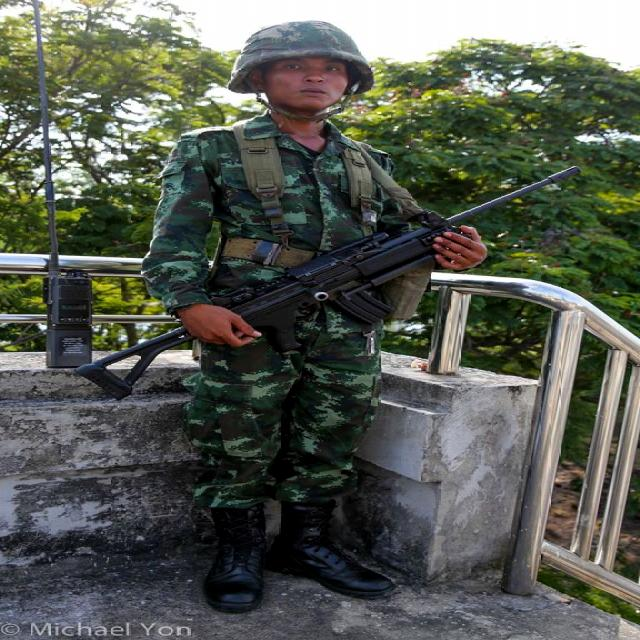m16: (172, 194, 528, 484)
